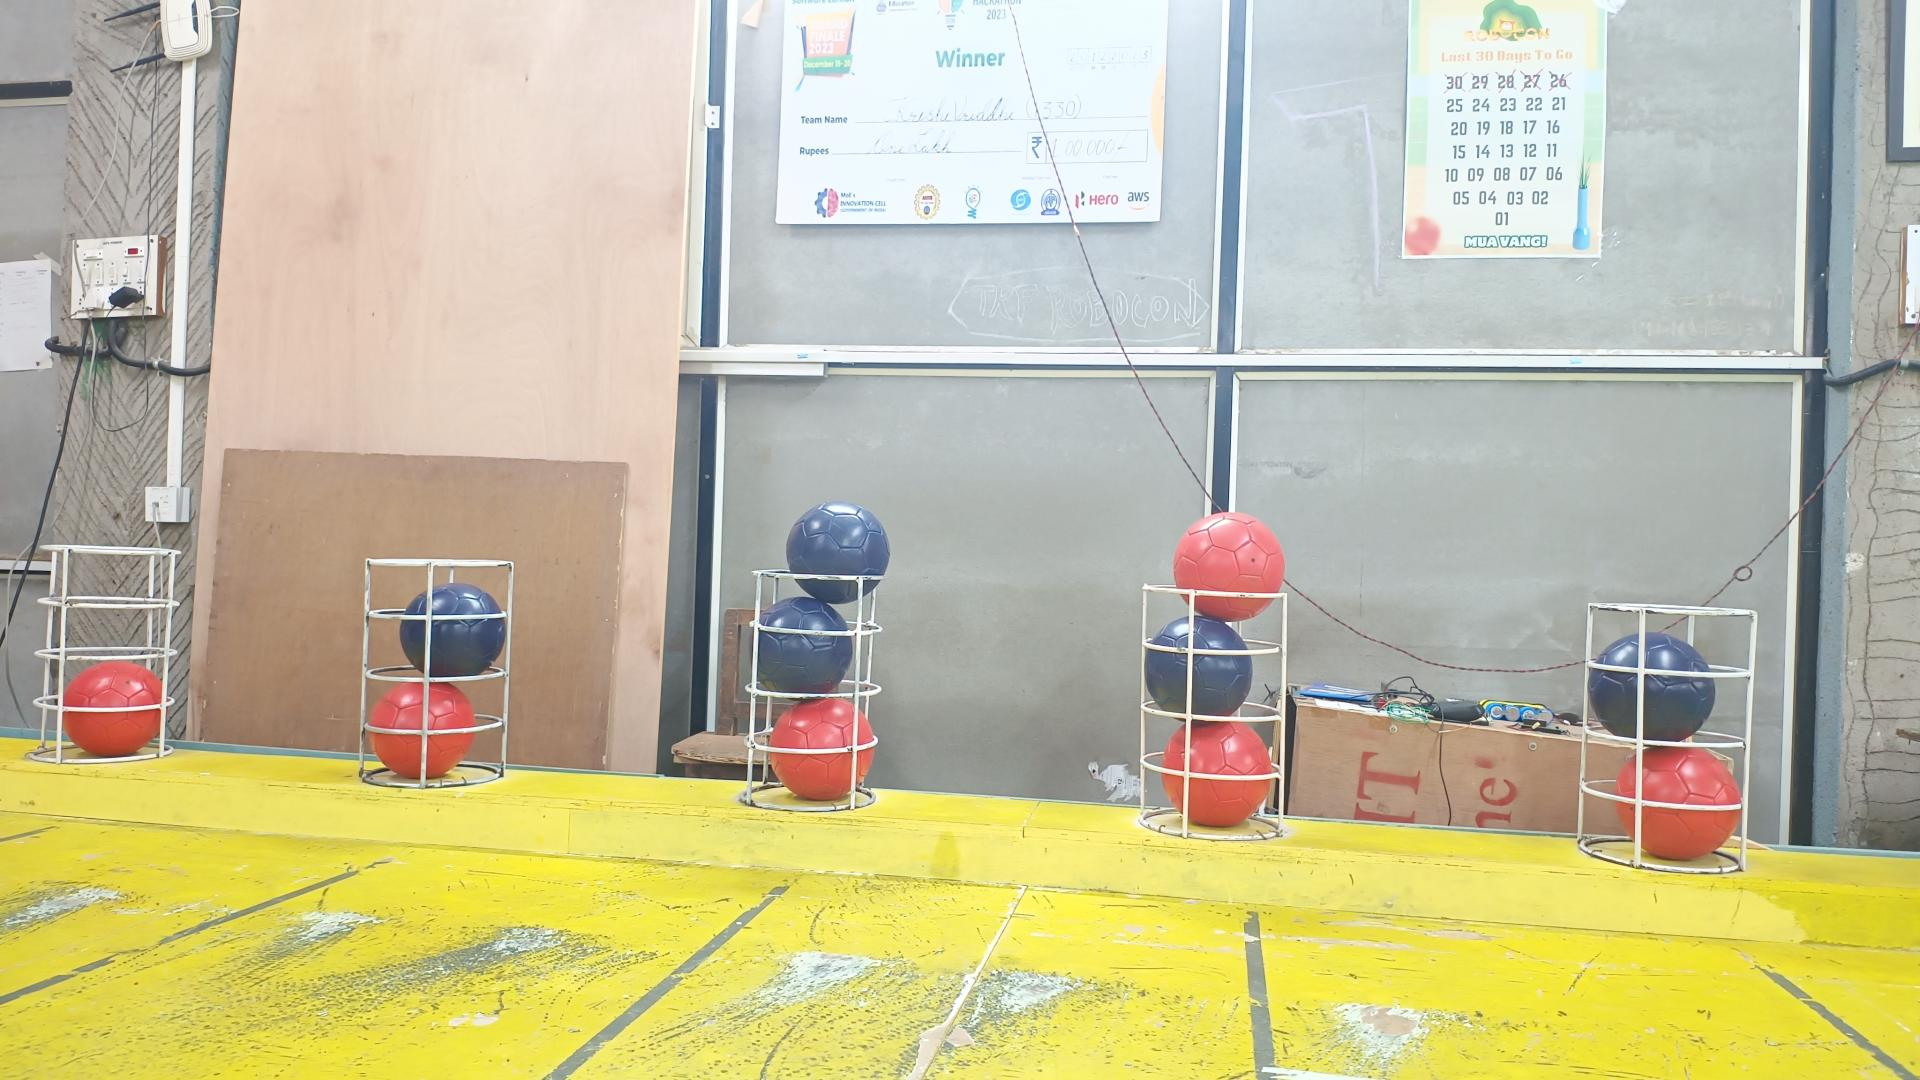dhoka: (1590, 630, 1717, 742), (1143, 615, 1253, 716), (783, 502, 889, 604), (397, 582, 506, 679), (757, 596, 852, 694)
laale: (1617, 746, 1743, 862), (1163, 720, 1275, 828), (1174, 514, 1286, 622), (769, 698, 874, 799), (368, 683, 476, 781), (63, 661, 165, 757)
